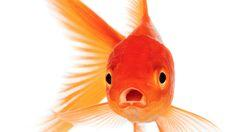goldfish: (79, 16, 191, 128)
